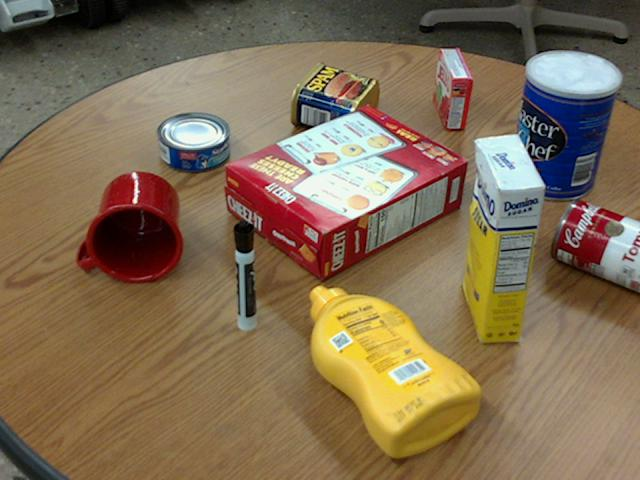cracker_box: (224, 106, 465, 280)
gelatin_box: (434, 49, 472, 128)
large_marker: (232, 219, 255, 330)
master_chef_can: (509, 51, 620, 200)
mug: (76, 171, 182, 282)
mustard_bottle: (309, 286, 480, 456)
potted_meat_can: (290, 62, 379, 135)
sugar_box: (464, 134, 543, 343)
tomato_soup_can: (551, 197, 639, 291)
tuna_fish_can: (157, 111, 229, 170)
